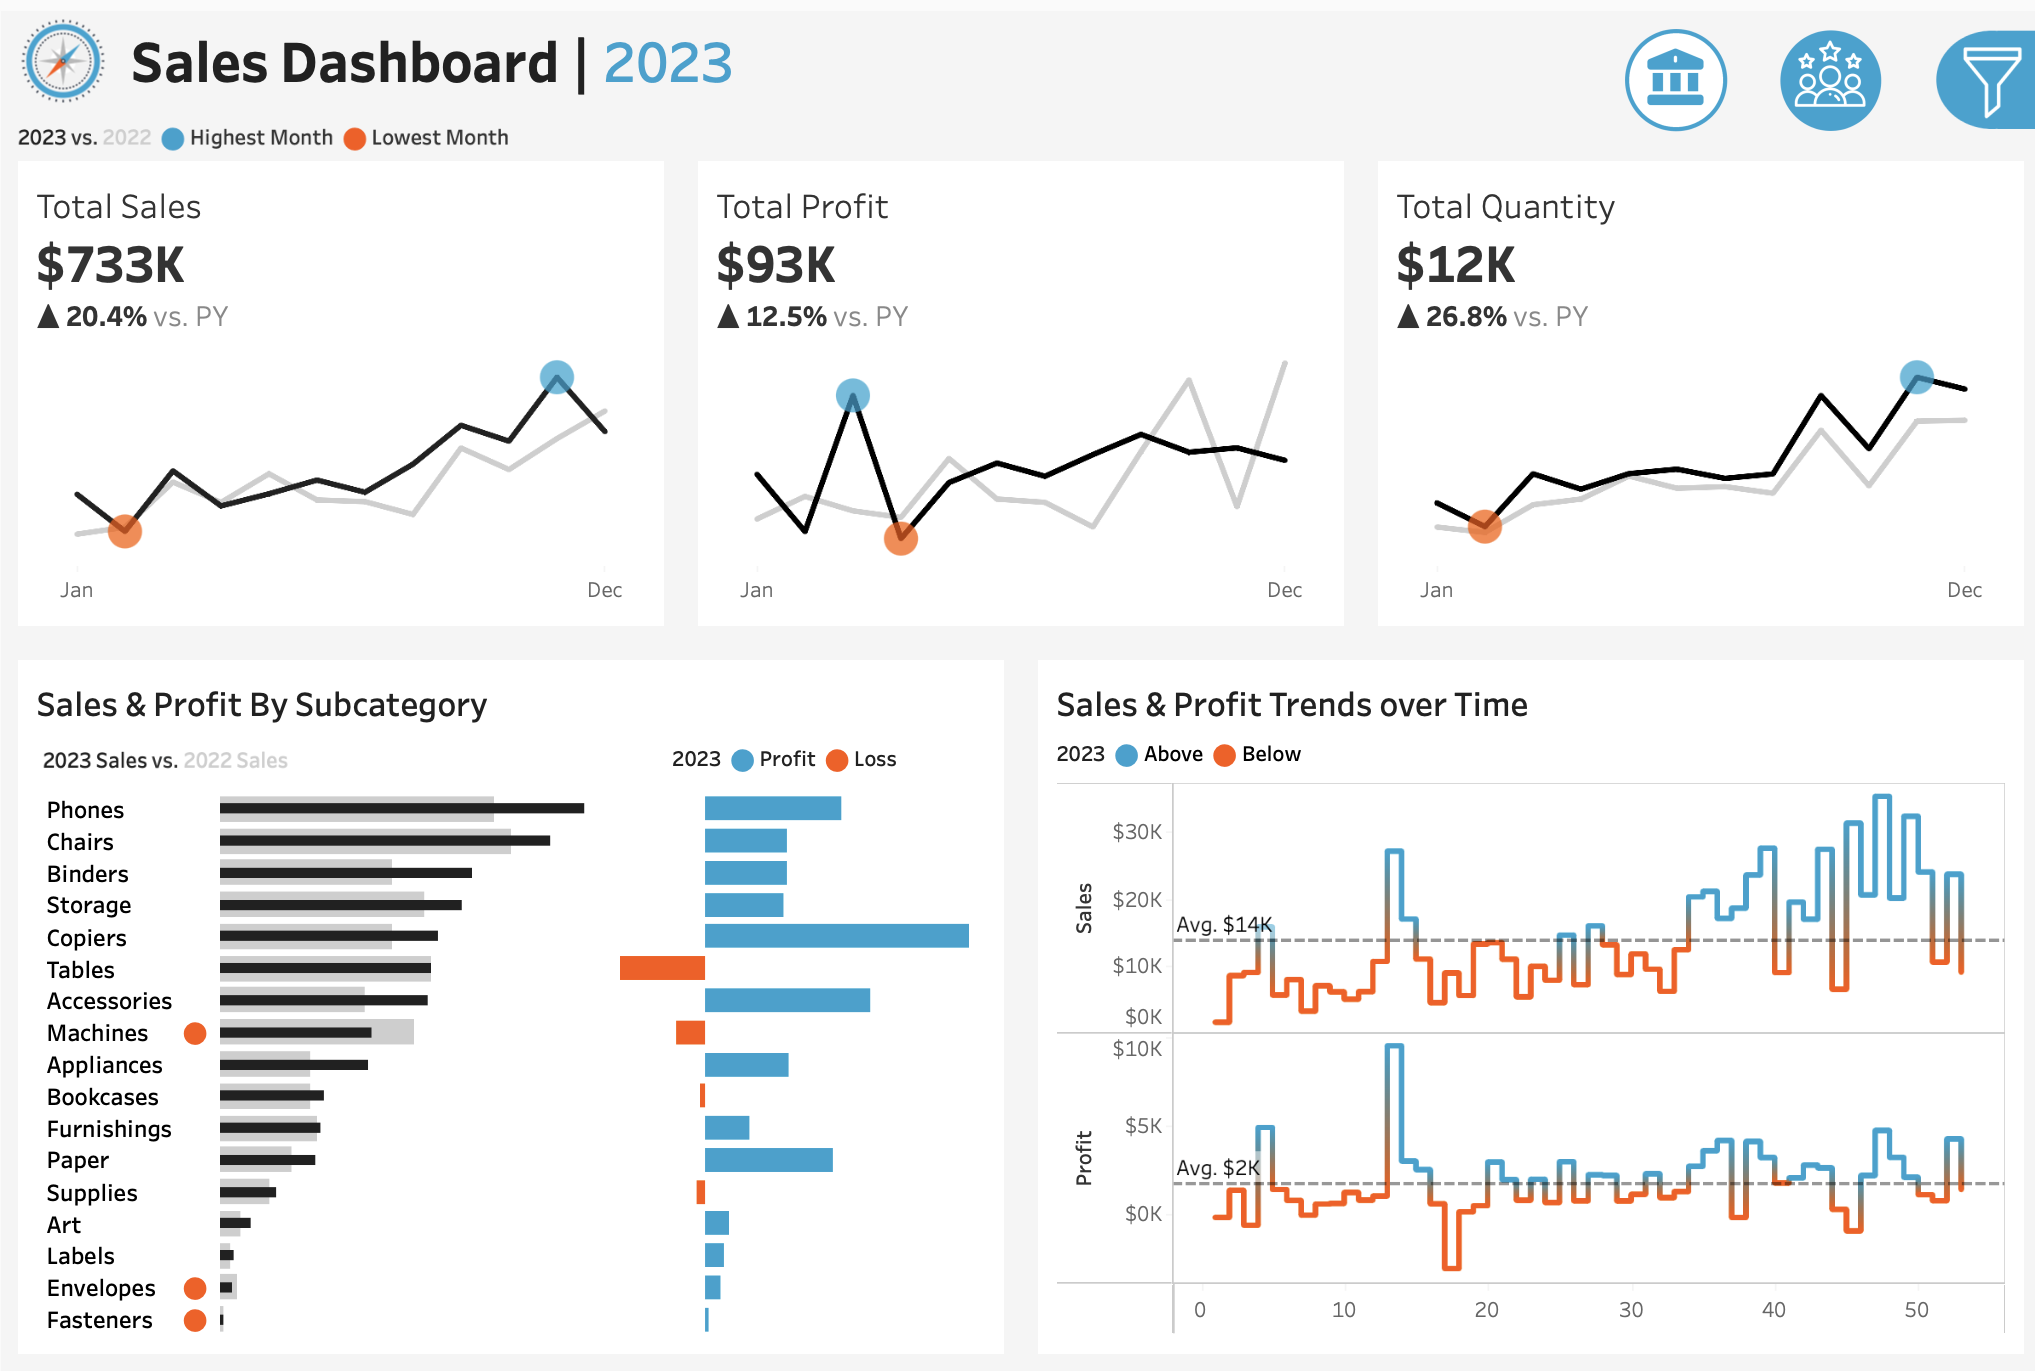

Layout of this report page (visuals, bound fields, positions):
{"tool":"tableau","page":{"name":"Sales Dashboard","canvas":[1200,800],"ordinal":1},"visuals":[{"type":"image","param":"/Users/sameersaifi/Documents/tableau/sales_dashboard_data/Dashboard Icons/Icon -","box":[0,0,67,59]},{"type":"text","box":[67,0,834,59]},{"type":"dashboard-object","box":[927,2,97,70]},{"type":"dashboard-object","box":[1024,2,97,70]},{"type":"blank","box":[941,10,249,81]},{"type":"worksheet","title":"Legend KPI","mark":"Automatic","box":[0,59,1200,29]},{"type":"worksheet","title":"KPI Sales","mark":"Automatic","rows":["Calculation_131237737995251715"],"cols":["Order Date"],"box":[0,88,400,258]},{"type":"worksheet","title":"KPI Profit","mark":"Automatic","rows":["Calculation_100556965868720136"],"cols":["Order Date"],"box":[400,88,400,258]},{"type":"worksheet","title":"KPI Quantity","mark":"Automatic","rows":["Calculation_93308985205026819"],"cols":["Order Date"],"box":[800,88,400,258]},{"type":"text","box":[941,91,249,58]},{"type":"parameter","param":"[Parameters].[Parameter 1]","box":[941,149,249,91]},{"type":"blank","box":[941,240,249,49]},{"type":"text","box":[941,289,249,26]},{"type":"filter","title":"KPI Sales","param":"[federated.07v27hh1rgrxp213w6yzn0zirsjq].[none:Category:nk]","box":[941,315,249,52]},{"type":"text","box":[611,355,579,34]},{"type":"text","box":[17,363,566,32]},{"type":"filter","title":"KPI Sales","param":"[federated.07v27hh1rgrxp213w6yzn0zirsjq].[none:Sub-Category:nk]","box":[941,367,249,52]},{"type":"text","box":[611,393.3,579,24]},{"type":"worksheet","title":"Legend Sub-Category","mark":"Automatic","box":[17,395,380,22]},{"type":"text","box":[397,395,186,22]},{"type":"worksheet","title":"Sub-Category Comparison","mark":"Bar","rows":["Sub-Category","Calculation_107171627833810945"],"cols":["Calculation_131237737989091329","Calculation_131237737988849664","Calculation_100556965864652802"],"box":[17,417,566,366]},{"type":"worksheet","title":"Weekly Trends","mark":"Automatic","rows":["Calculation_131237737988849664","Calculation_100556965864652802"],"cols":["Order Date"],"box":[611,417.3,579,372.7]},{"type":"blank","box":[941,419,249,50]},{"type":"text","box":[941,469,249,26]},{"type":"filter","title":"KPI Sales","param":"[federated.07v27hh1rgrxp213w6yzn0zirsjq].[none:Region:nk]","box":[941,495,249,52]},{"type":"filter","title":"KPI Sales","param":"[federated.07v27hh1rgrxp213w6yzn0zirsjq].[none:State:nk]","box":[941,547,249,52]},{"type":"filter","title":"KPI Sales","param":"[federated.07v27hh1rgrxp213w6yzn0zirsjq].[none:City:nk]","box":[941,599,249,52]}]}

Visuals, with their boxes in screenshot pixels (x1, y1, x2, y2), scaled from the page's 1200x800 canvas onto the 2035x1371 screenshot:
image: bbox=(0, 0, 114, 101)
text: bbox=(114, 0, 1528, 101)
dashboard-object: bbox=(1572, 3, 1737, 123)
dashboard-object: bbox=(1737, 3, 1901, 123)
blank: bbox=(1596, 17, 2018, 156)
"Legend KPI" worksheet: bbox=(0, 101, 2034, 151)
"KPI Sales" worksheet: bbox=(0, 151, 678, 593)
"KPI Profit" worksheet: bbox=(678, 151, 1357, 593)
"KPI Quantity" worksheet: bbox=(1357, 151, 2034, 593)
text: bbox=(1596, 156, 2018, 255)
parameter: bbox=(1596, 255, 2018, 411)
blank: bbox=(1596, 411, 2018, 495)
text: bbox=(1596, 495, 2018, 540)
"KPI Sales" filter: bbox=(1596, 540, 2018, 629)
text: bbox=(1036, 608, 2018, 667)
text: bbox=(29, 622, 989, 677)
"KPI Sales" filter: bbox=(1596, 629, 2018, 718)
text: bbox=(1036, 674, 2018, 715)
"Legend Sub-Category" worksheet: bbox=(29, 677, 673, 715)
text: bbox=(673, 677, 989, 715)
"Sub-Category Comparison" worksheet (Bar marks): bbox=(29, 715, 989, 1342)
"Weekly Trends" worksheet: bbox=(1036, 715, 2018, 1354)
blank: bbox=(1596, 718, 2018, 804)
text: bbox=(1596, 804, 2018, 848)
"KPI Sales" filter: bbox=(1596, 848, 2018, 937)
"KPI Sales" filter: bbox=(1596, 937, 2018, 1027)
"KPI Sales" filter: bbox=(1596, 1027, 2018, 1116)
